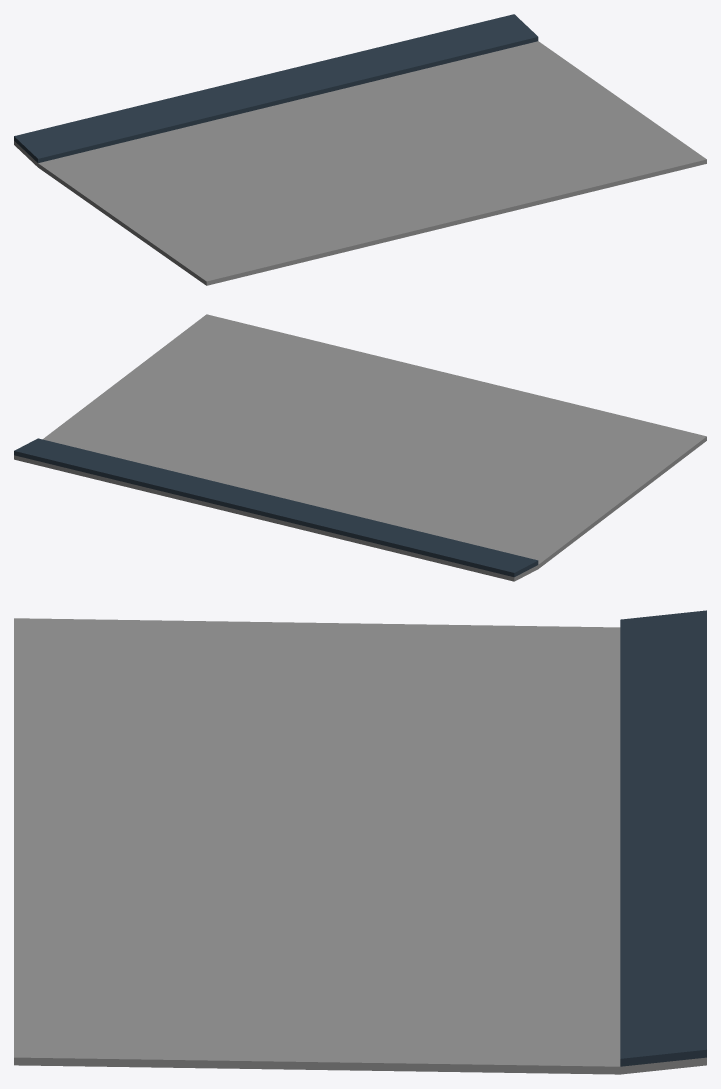
Rendered from Tile4x6MeioFio.fbx.
The picture shows the model from 3 angles, top to bottom: view 1: azimuth 30°, elevation 25°; view 2: azimuth 150°, elevation 25°; view 3: azimuth 270°, elevation 25°; orthographic projection. The views are drawn at different scales.
Parts seen in each view (by area): view 1: Rua.meiofio; view 2: Rua.meiofio; view 3: Rua.meiofio.
Boxes of the visible parts, x1,y1,x2,y2 form: Rua.meiofio: (14, 14, 706, 285); Rua.meiofio: (14, 314, 706, 581); Rua.meiofio: (14, 610, 706, 1074).
Bounding box in the file's own units: 1200 × 31.67 × 800.
